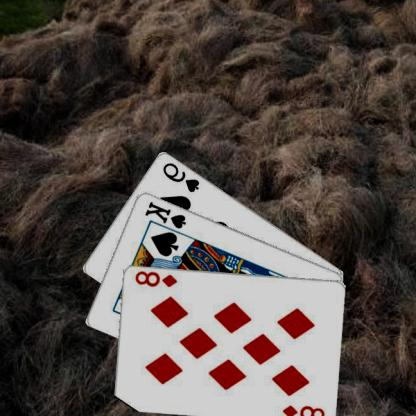8D: (134, 268, 180, 288), (282, 402, 328, 416)
9S: (162, 159, 203, 193)
KS: (144, 198, 189, 230)
